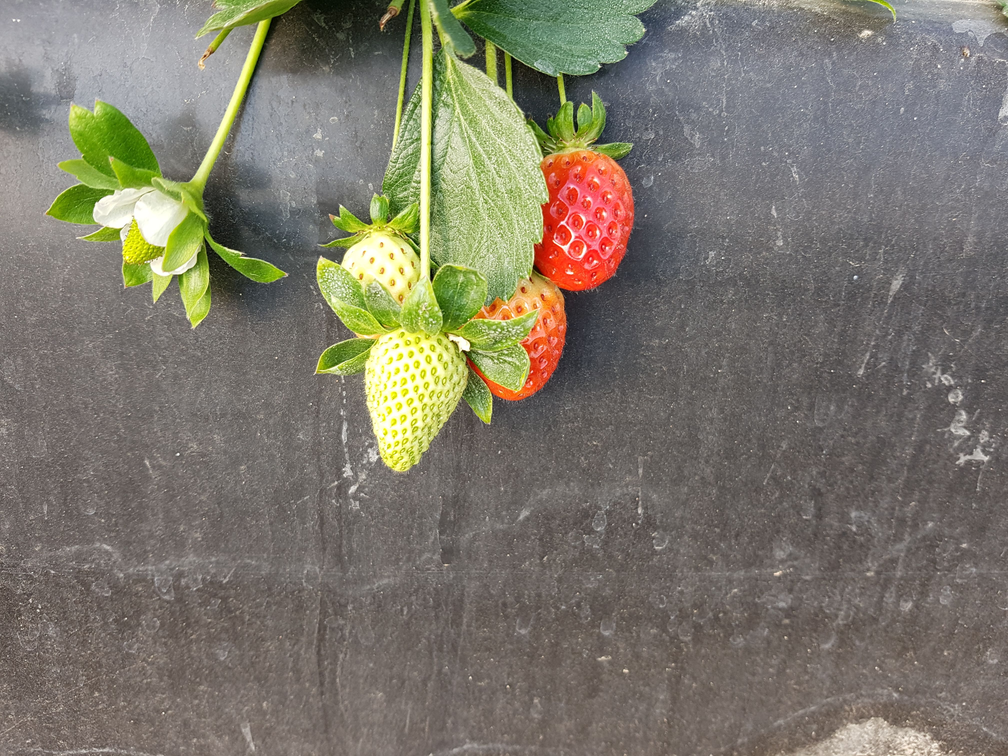peduncle: (189, 20, 270, 193), (419, 0, 432, 277), (393, 0, 414, 150), (557, 75, 566, 107)
strawberry: (365, 329, 467, 469), (535, 150, 633, 290)
